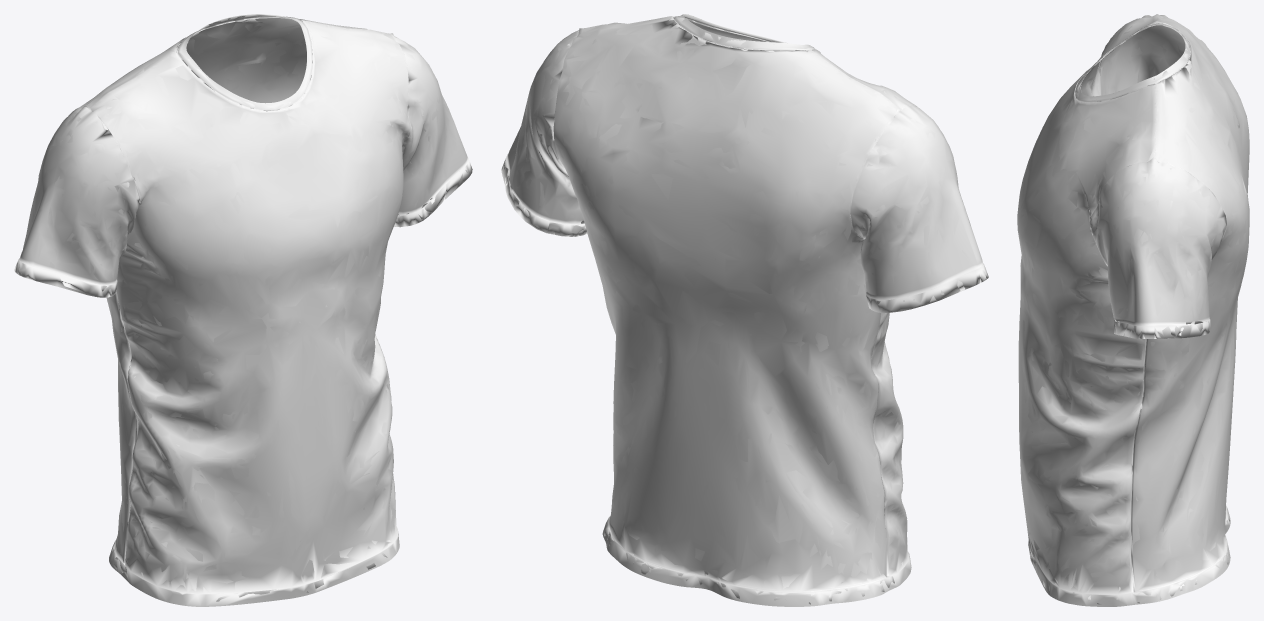
File: crew-tee.glb
The picture shows the model from 3 angles, left to right: view 1: azimuth 30°, elevation 25°; view 2: azimuth 150°, elevation 25°; view 3: azimuth 270°, elevation 25°; orthographic projection. The views are drawn at different scales.
Visible parts, largest first — view 1: T_Shirt_exterieur_ext_0_0, T_Shirt_int_int_0_1; view 2: T_Shirt_exterieur_ext_0_0, T_Shirt_int_int_0_1; view 3: T_Shirt_exterieur_ext_0_0, T_Shirt_int_int_0_1.
Part boxes in pixels (x1,y1,x2,y2): T_Shirt_exterieur_ext_0_0: (14,16,472,606); T_Shirt_int_int_0_1: (14,14,472,601); T_Shirt_exterieur_ext_0_0: (502,14,988,606); T_Shirt_int_int_0_1: (501,14,987,604); T_Shirt_exterieur_ext_0_0: (1017,14,1249,606); T_Shirt_int_int_0_1: (1018,15,1249,604).
Size of the model in its own units: 0.6387 by 0.6992 by 0.2892.
2 materials, 2 textured.
